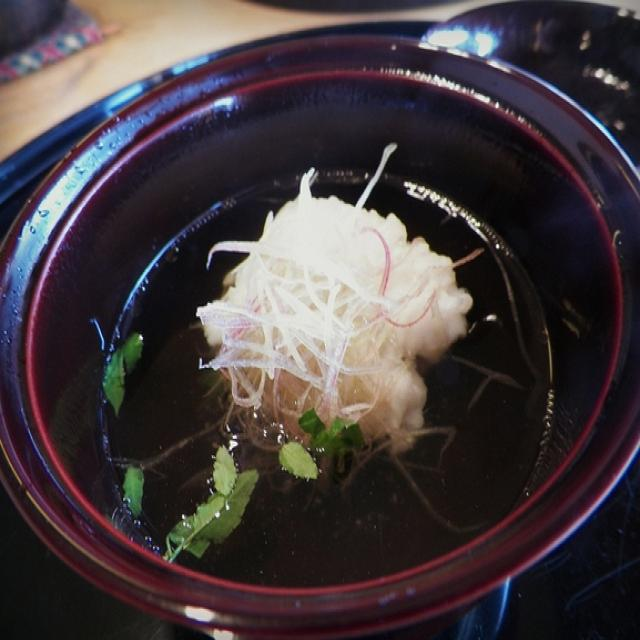汤锅炖物: (87, 130, 584, 578)
